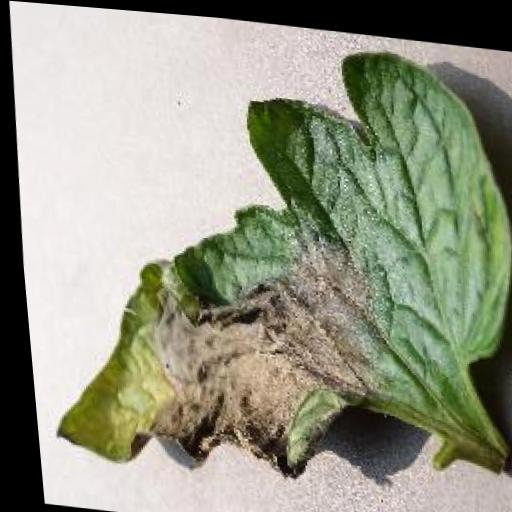Late Blight: (15, 2, 512, 502)
